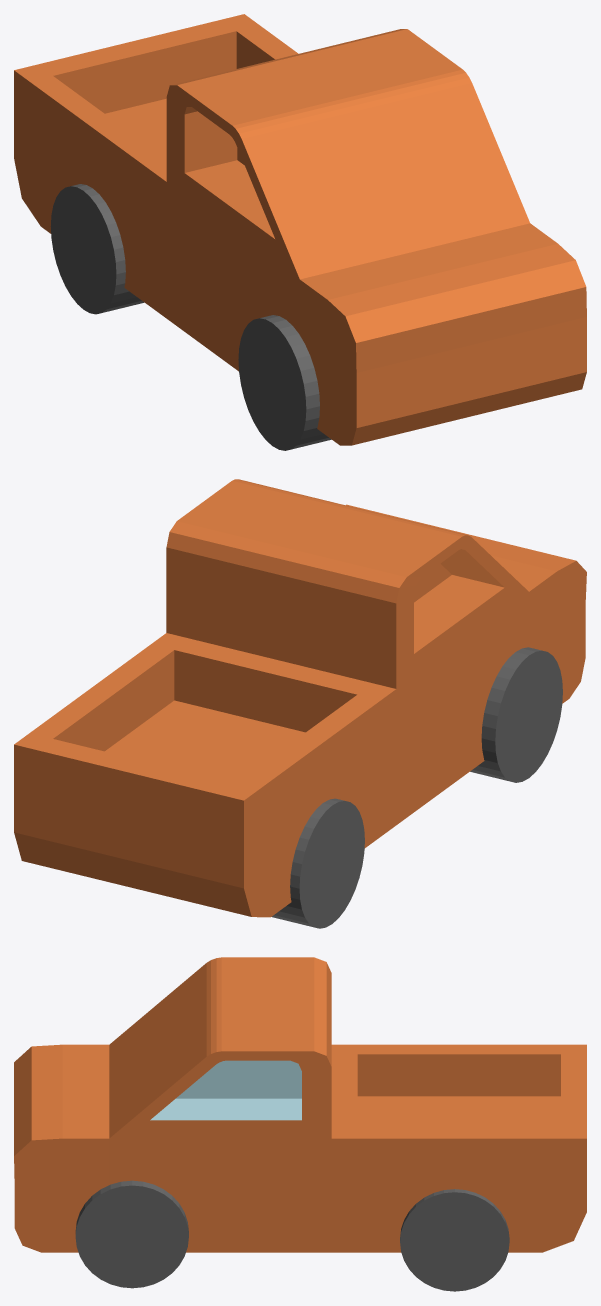
The model's file is Truck.fbx.
3 views of the same model, one above another, from view 1: azimuth 30°, elevation 25°; view 2: azimuth 150°, elevation 25°; view 3: azimuth 270°, elevation 25° (orthographic). The views are drawn at different scales.
Parts seen in each view (by area): view 1: Truck; view 2: Truck; view 3: Truck.
Part boxes in pixels (x1=…): Truck: x1=14, y1=14, x2=586, y2=450; Truck: x1=14, y1=479, x2=586, y2=928; Truck: x1=14, y1=957, x2=586, y2=1291.
Bounding box in the file's own units: 222 × 235 × 516.
